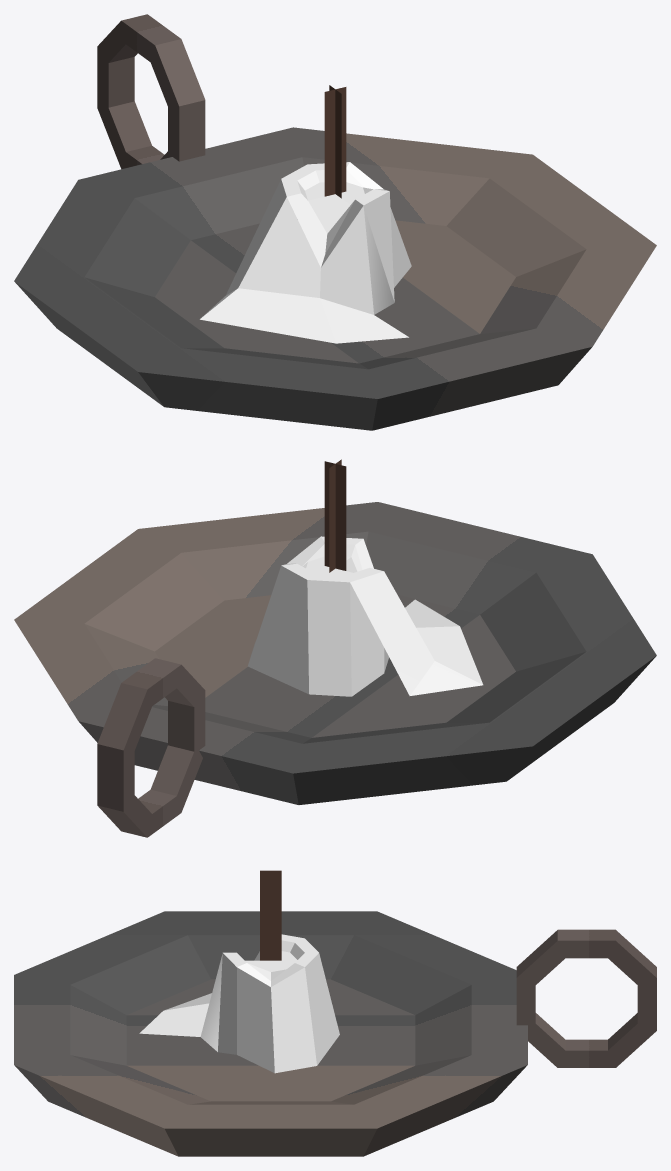
File: spent_light_997x06.obj
The picture shows the model from 3 angles, top to bottom: view 1: azimuth 30°, elevation 25°; view 2: azimuth 150°, elevation 25°; view 3: azimuth 270°, elevation 25°; orthographic projection. The views are drawn at different scales.
Parts seen in each view (by area): view 1: spent_light_997x06; view 2: spent_light_997x06; view 3: spent_light_997x06.
Boxes of the visible parts, left/top/right/bottom form: spent_light_997x06: left=14, top=14, right=656, bottom=430; spent_light_997x06: left=14, top=459, right=656, bottom=837; spent_light_997x06: left=14, top=870, right=656, bottom=1156.
Bounding box in the file's own units: 0.3453 × 0.1422 × 0.432.
